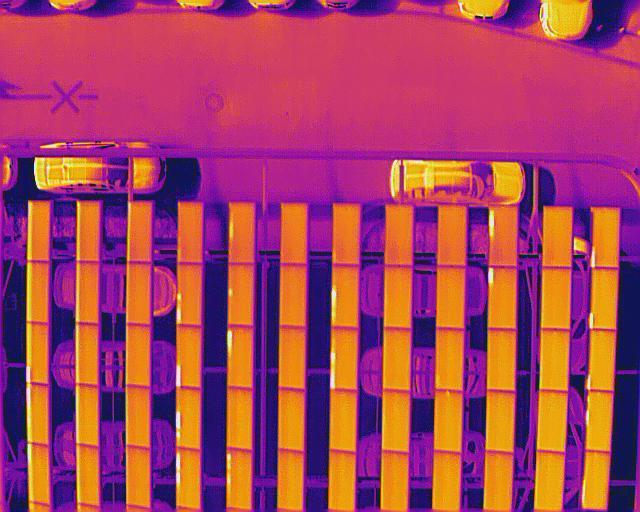Cell: (228, 263, 253, 326)
No-Anomaly: (539, 329, 569, 391), (534, 450, 564, 512), (542, 206, 572, 267), (537, 390, 567, 451), (542, 267, 571, 330), (437, 203, 466, 265), (485, 390, 514, 452), (484, 452, 513, 512), (383, 266, 411, 328), (384, 204, 412, 266), (279, 202, 307, 264), (487, 329, 515, 390), (432, 451, 460, 512), (380, 451, 408, 512), (434, 390, 462, 451), (383, 328, 410, 391), (436, 265, 463, 328), (332, 202, 359, 265), (329, 389, 356, 452), (436, 328, 463, 390), (279, 264, 306, 326), (328, 450, 355, 512), (381, 391, 408, 452), (278, 450, 304, 512), (278, 388, 304, 450), (279, 327, 305, 388), (226, 387, 251, 450), (178, 201, 203, 263), (75, 444, 99, 508), (76, 201, 101, 262), (126, 446, 150, 509), (126, 385, 150, 448), (126, 323, 149, 388), (76, 261, 100, 323), (25, 260, 49, 322), (127, 201, 151, 263), (75, 323, 98, 385), (126, 263, 149, 325), (75, 384, 98, 446), (27, 200, 50, 260)
Unclassified: (586, 329, 616, 391), (487, 267, 516, 329), (589, 268, 617, 331), (591, 206, 619, 268), (488, 205, 516, 267), (582, 451, 610, 512), (330, 327, 357, 390), (225, 325, 252, 387), (331, 265, 358, 327), (585, 390, 612, 452), (176, 263, 203, 324), (228, 202, 255, 263), (175, 447, 201, 510), (175, 387, 201, 450), (175, 324, 201, 386), (225, 447, 250, 511), (25, 381, 50, 445), (27, 442, 50, 507), (25, 321, 48, 383)
